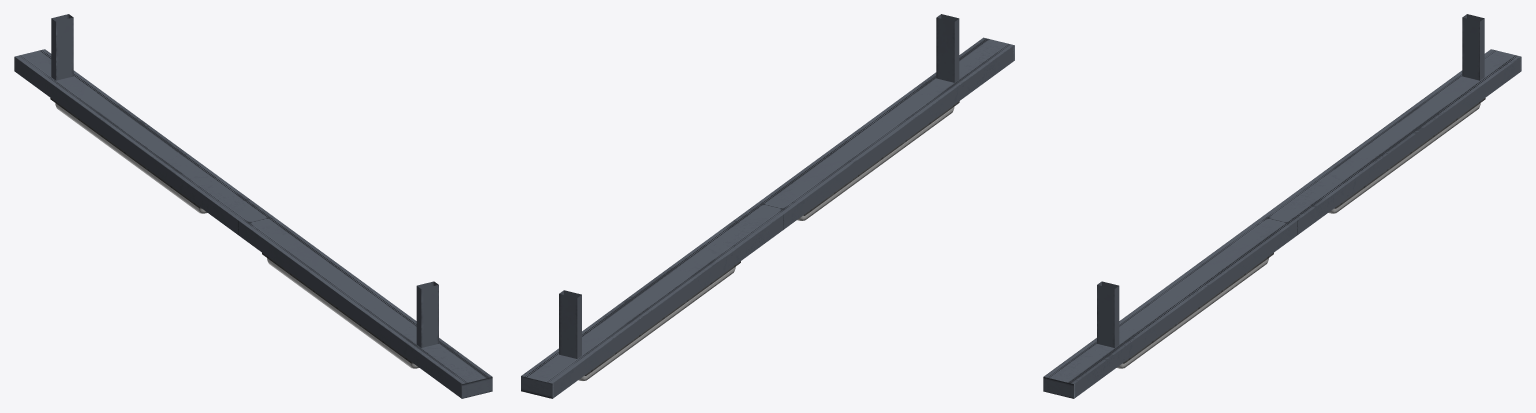
Rendered from CP_Ceiling_Lamp_01.fbx.
3 renders of one model, left to right at view 1: azimuth 30°, elevation 25°; view 2: azimuth 150°, elevation 25°; view 3: azimuth 330°, elevation 25°, orthographic. The views are drawn at different scales.
Parts seen in each view (by area): view 1: CP_Ceiling_Lamp_01_LOD0; view 2: CP_Ceiling_Lamp_01_LOD0; view 3: CP_Ceiling_Lamp_01_LOD0.
Part boxes in pixels (<box>): CP_Ceiling_Lamp_01_LOD0: <box>14,14,492,398</box>; CP_Ceiling_Lamp_01_LOD0: <box>521,14,1014,398</box>; CP_Ceiling_Lamp_01_LOD0: <box>1043,14,1521,398</box>.
Size of what is drawn, in the model's own units: 17.5 by 47.23 by 445.
